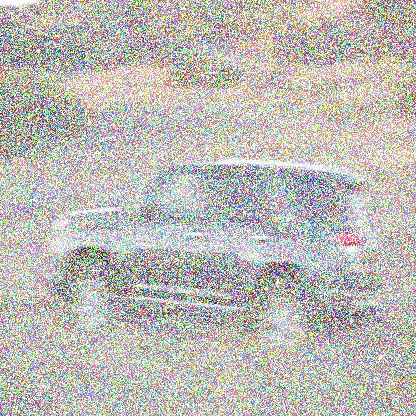Vehicle: (47, 159, 386, 380)
